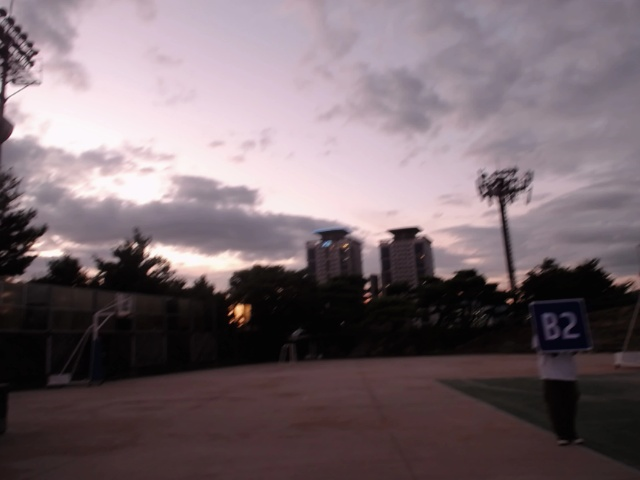delivery_b2: (531, 298, 590, 352)
